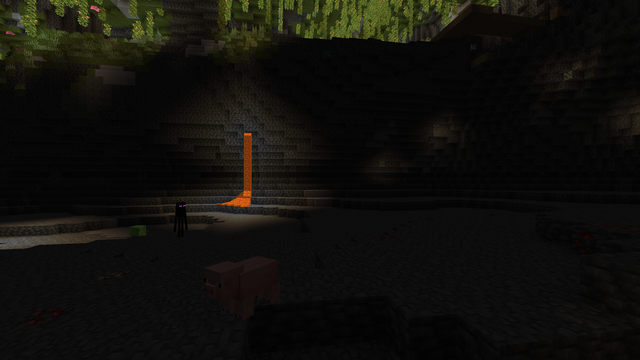cochons: (223, 255, 272, 319)
endermens: (175, 200, 185, 237)
slimes: (128, 224, 144, 236)
